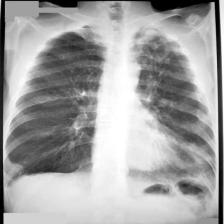tuberculosis: (3, 17, 220, 218)
